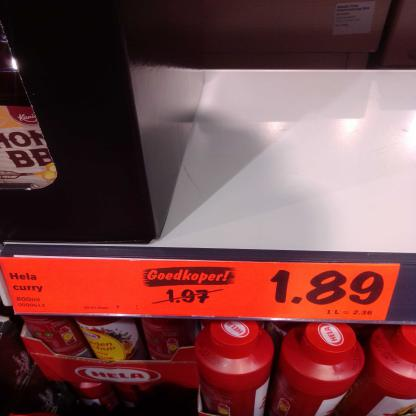prtg: (1, 257, 401, 322)
